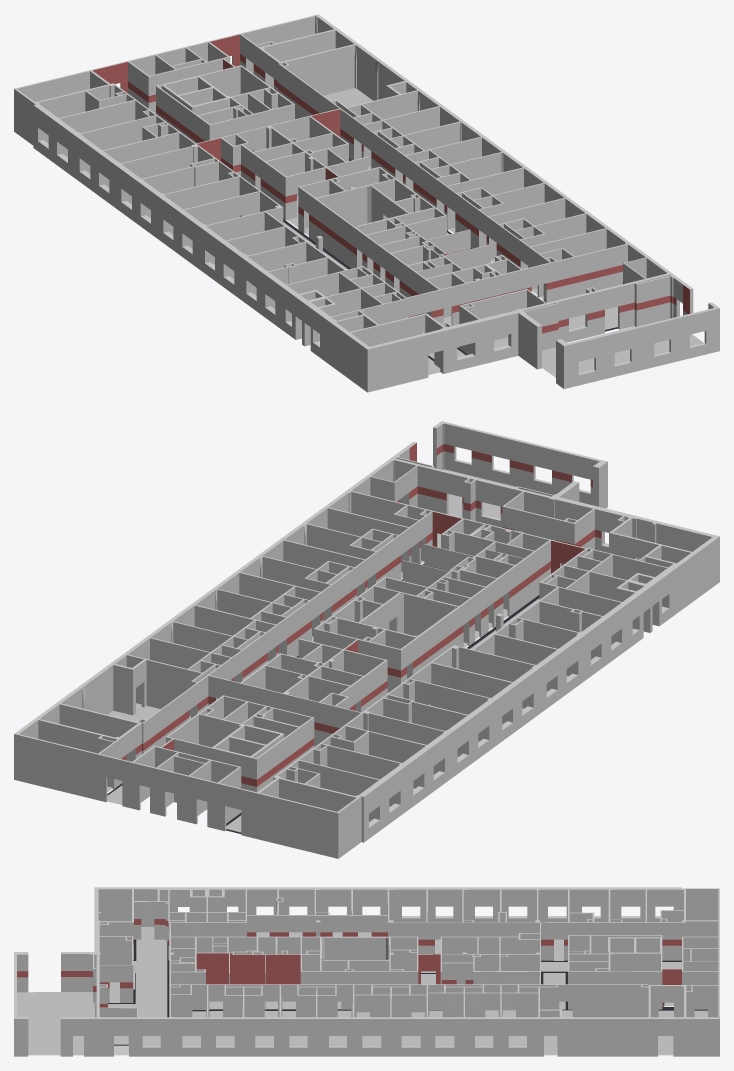
The model's file is Palata4Block.fbx.
3 renders of one model, top to bottom at view 1: azimuth 30°, elevation 25°; view 2: azimuth 150°, elevation 25°; view 3: azimuth 270°, elevation 25°, orthographic. The views are drawn at different scales.
Parts seen in each view (by area): view 1: Plane; view 2: Plane; view 3: Plane.
Part boxes in pixels (x1,y1,x2,y2): Plane: [14, 14, 719, 392]; Plane: [14, 421, 719, 858]; Plane: [14, 887, 719, 1056].
Size of the model in its own units: 3140 by 420 by 7116.
